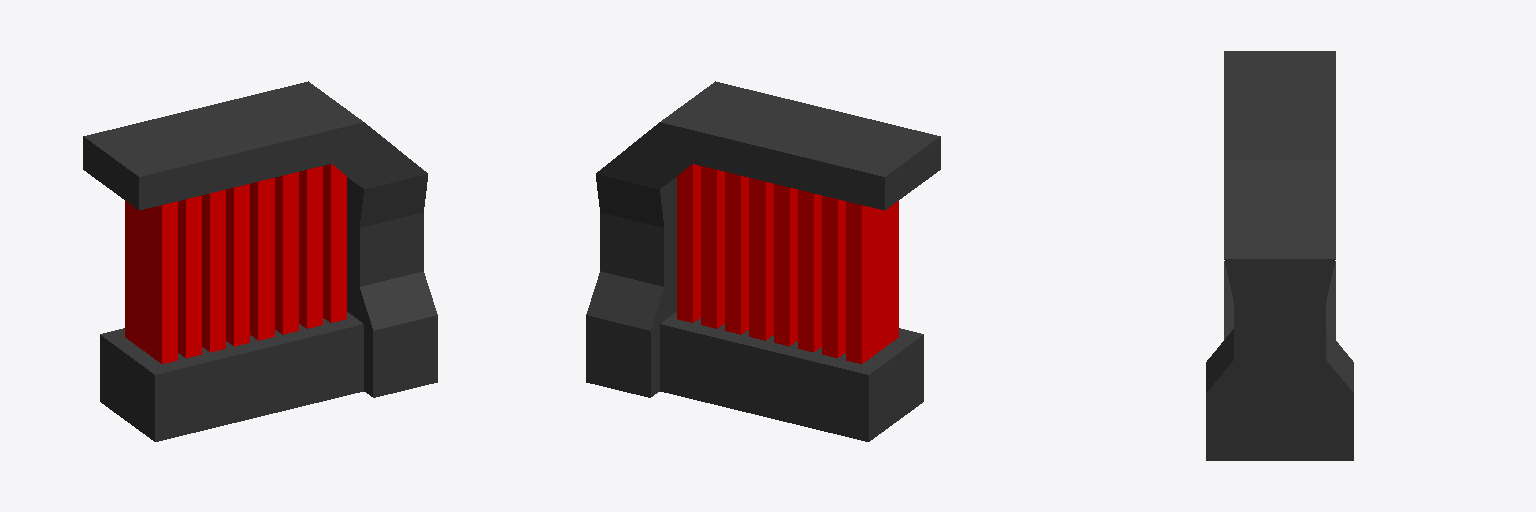
Rendered from RedPlasmaAmmo.obj.
The picture shows the model from 3 angles: view 1: azimuth 30°, elevation 25°; view 2: azimuth 150°, elevation 25°; view 3: azimuth 270°, elevation 25°; orthographic projection.
Visible parts, largest first — view 1: the_node.001_tri_36_geometry; view 2: the_node.001_tri_36_geometry; view 3: the_node.001_tri_36_geometry.
Boxes of the visible parts, <box> form: the_node.001_tri_36_geometry: <box>83,81,437,441</box>; the_node.001_tri_36_geometry: <box>586,81,940,441</box>; the_node.001_tri_36_geometry: <box>1206,51,1353,460</box>.
Bounding box in the file's own units: 1.11 × 0.9846 × 0.4923.